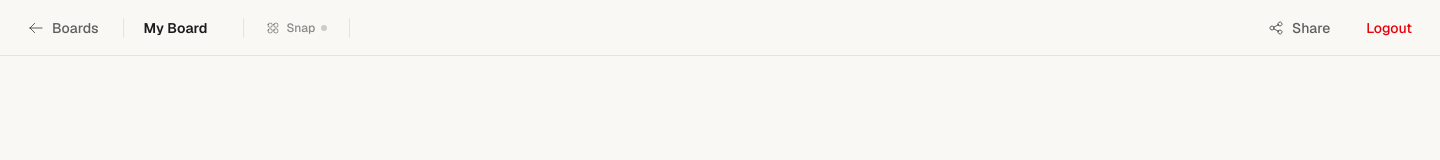
BoardTopBar › owner can cancel rename with Escape
Double-click the button "My Board": (184, 28) [136,14,231,42]
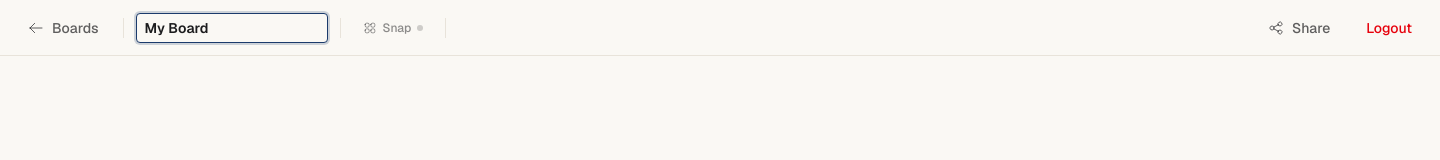
In the field showing "My Board": (232, 28) [136,12,328,42], type "Changed"
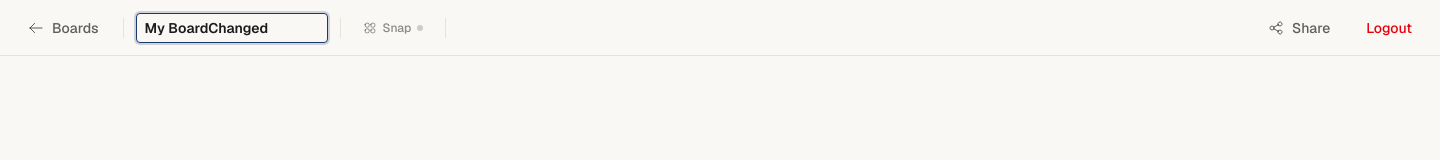
Press Escape
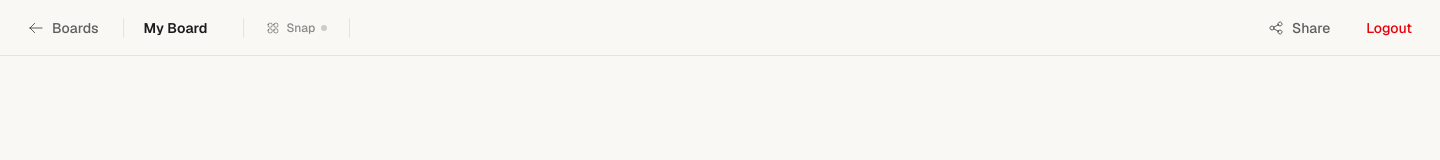
Expected: the button "My Board" is shown, [136,14,231,42]
